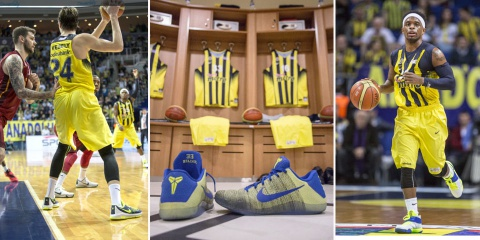nike: (256, 183, 308, 206)
